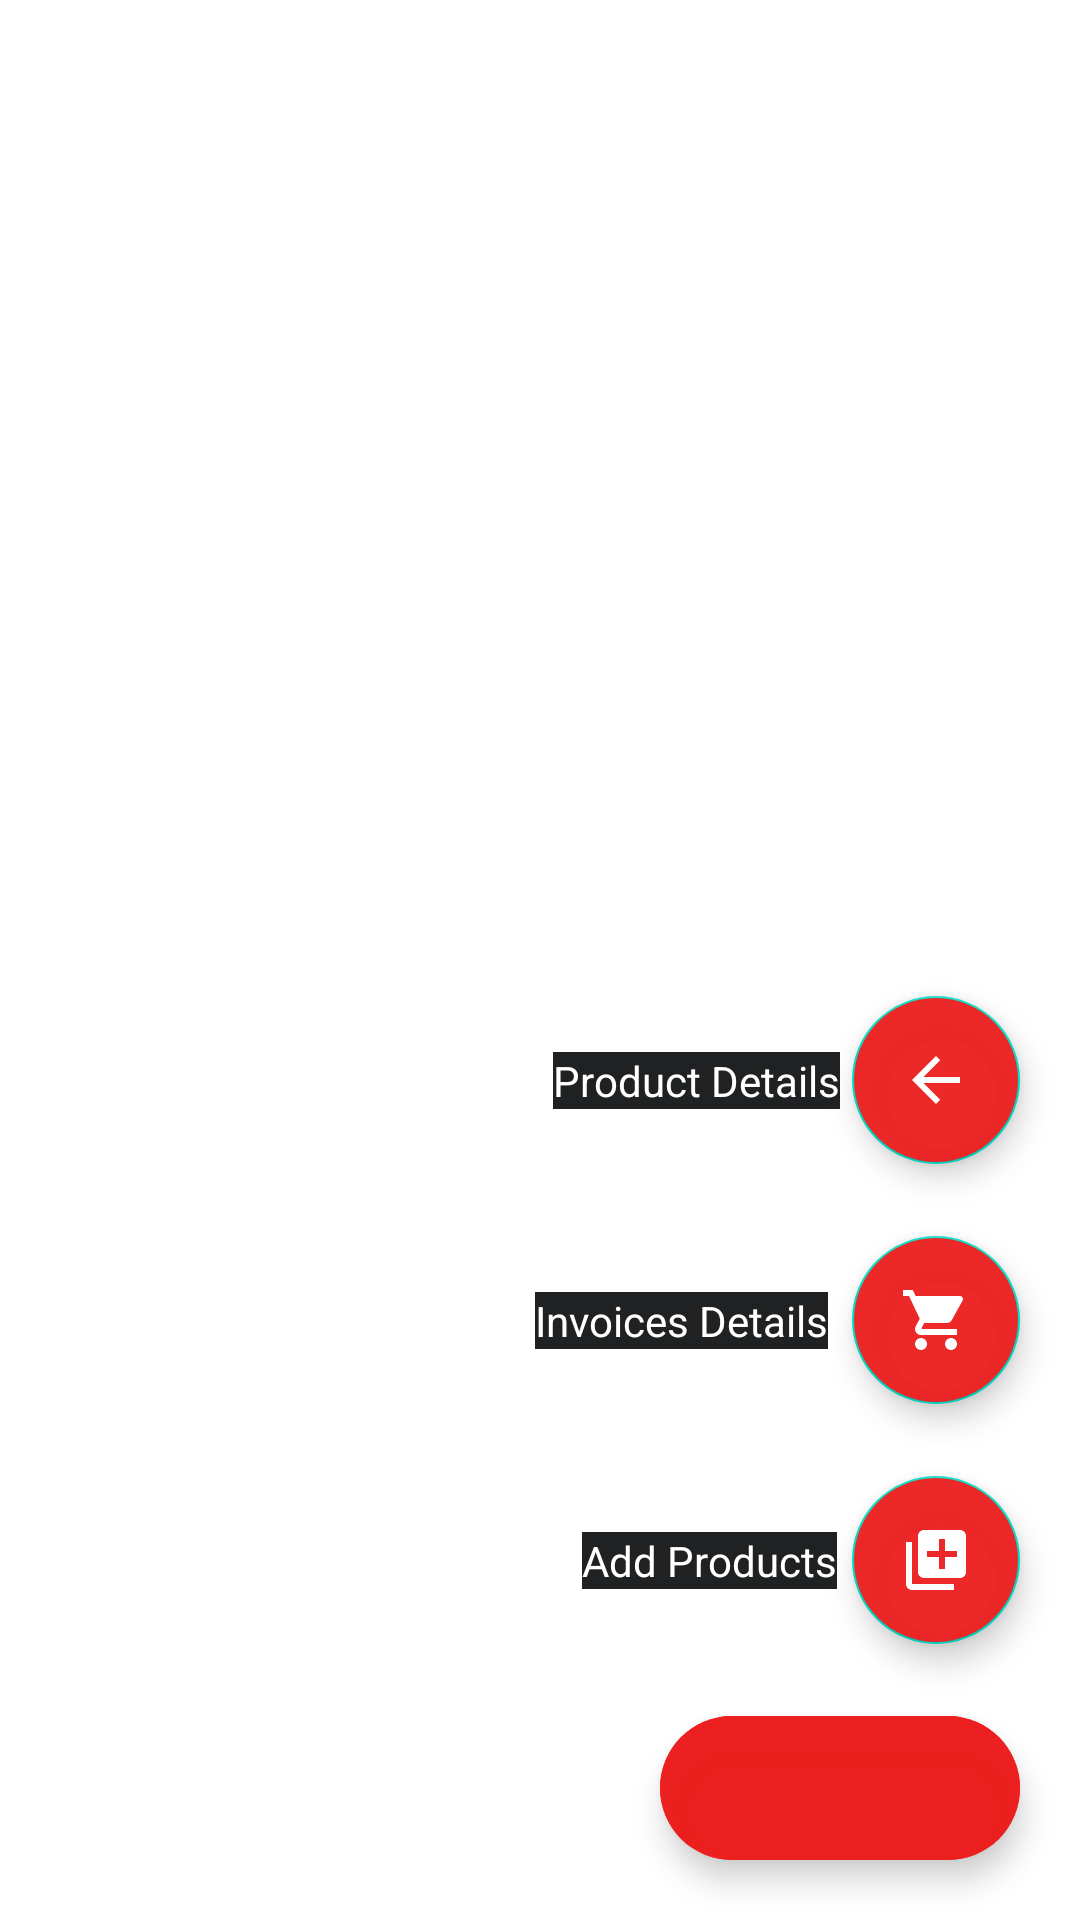

Icon bounding boxes for this 1080w x 1920h phone screenshot, format (x1, y1, x2, y2):
store: (852, 1236, 1020, 1404)
